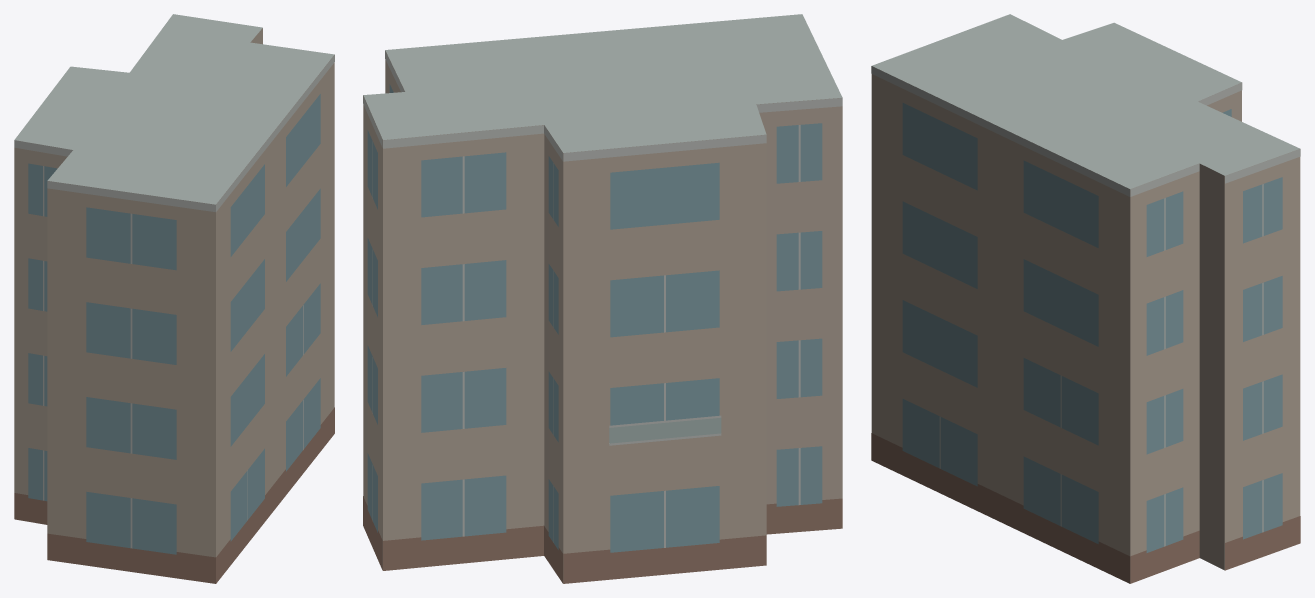
The model's file is survey-upis-32926842.glb.
The picture shows the model from 3 angles, left to right: view 1: azimuth 30°, elevation 25°; view 2: azimuth 150°, elevation 25°; view 3: azimuth 270°, elevation 25°; orthographic projection. The views are drawn at different scales.
Parts seen in each view (by area): view 1: survey-upis-32926842.tmp; view 2: survey-upis-32926842.tmp; view 3: survey-upis-32926842.tmp.
Part boxes in pixels (bbox=[...]): survey-upis-32926842.tmp: bbox=[14, 14, 334, 583]; survey-upis-32926842.tmp: bbox=[363, 14, 842, 583]; survey-upis-32926842.tmp: bbox=[871, 14, 1300, 583].
Size of the model in its own units: 11.62 by 12.2 by 12.02.
